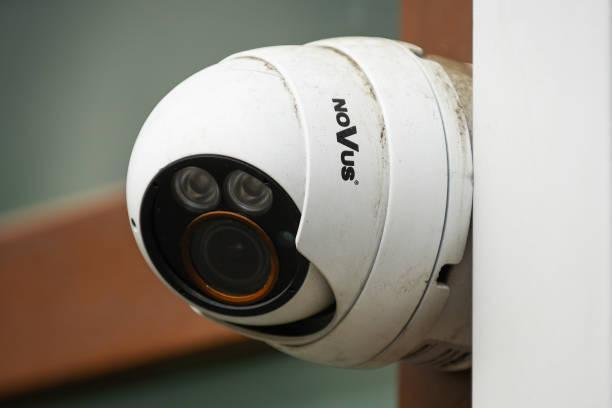camera: (104, 5, 422, 380)
